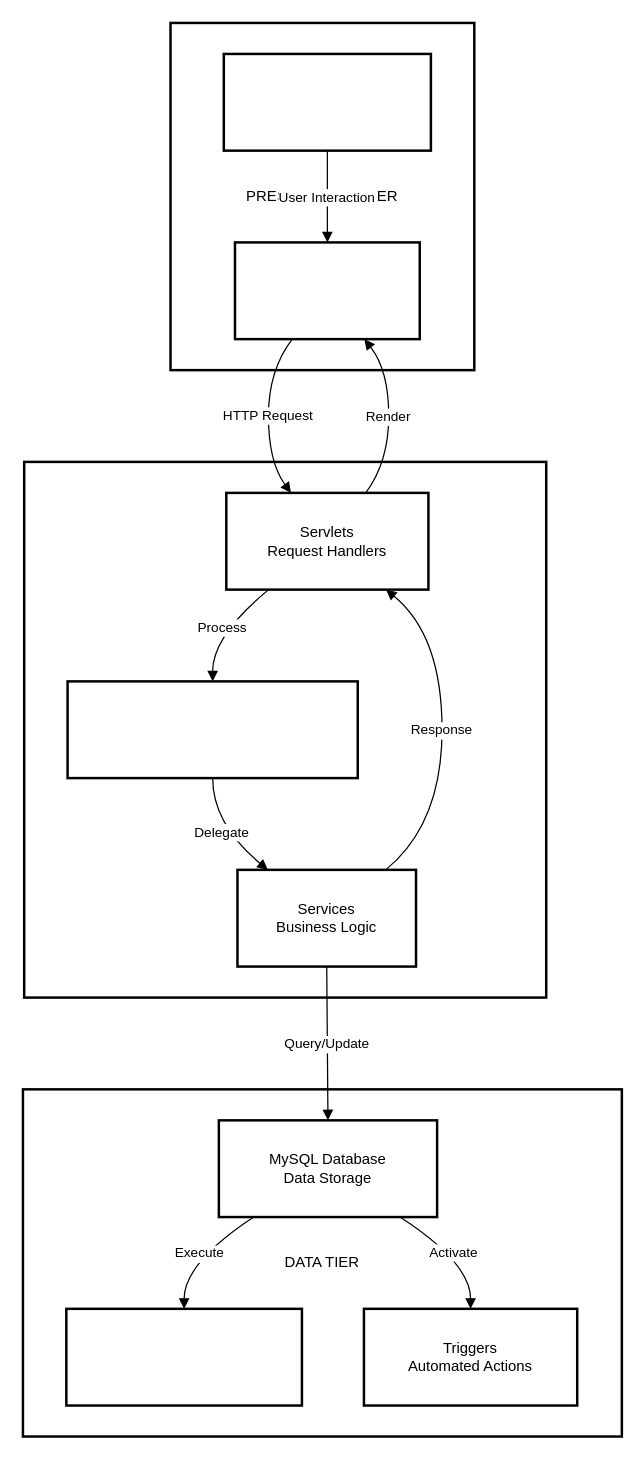
Image size: 644x1458. Some labels were removed from this diagram. Each missing label, with the centre of its shape:
Bootstrap UI Responsive Design: the point at 327,101
Filters Request/Response Processing: the point at 212,729
JSP Pages Dynamic Views: the point at 326,290
Stored Procedures Precompiled SQL: the point at 183,1356
